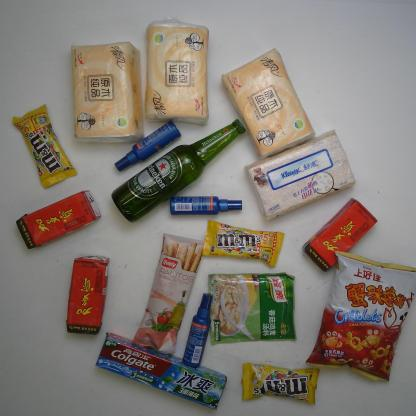Alcohol: (111, 119, 246, 222)
Chocolate: (12, 104, 79, 188), (201, 218, 287, 267), (240, 358, 321, 406)
Dessert: (132, 230, 205, 355)
Drink: (304, 197, 378, 272), (16, 190, 100, 250), (65, 255, 111, 336)
Personal Hygiene: (95, 332, 228, 410), (113, 122, 181, 172), (182, 293, 213, 370), (167, 194, 244, 216)
Puffed Food: (305, 246, 416, 385)
Seasoner: (203, 268, 298, 346)
Tissue: (243, 129, 355, 222), (224, 49, 316, 159), (70, 42, 144, 144), (144, 19, 212, 126)
